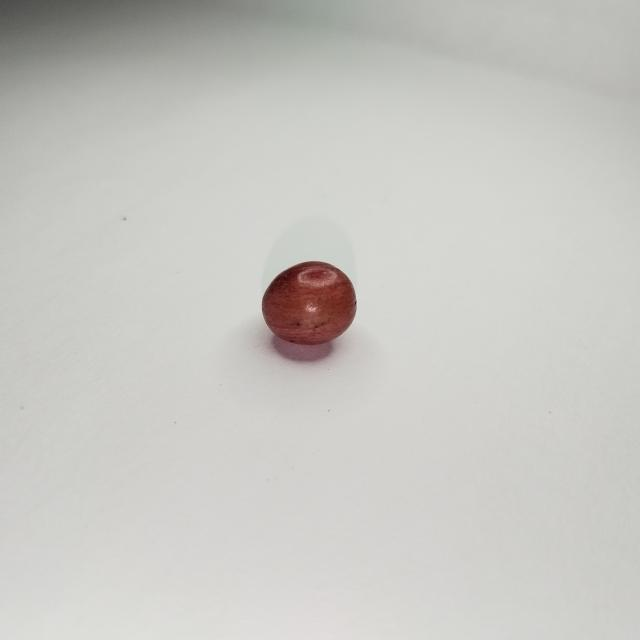Sano: (262, 261, 356, 346)
